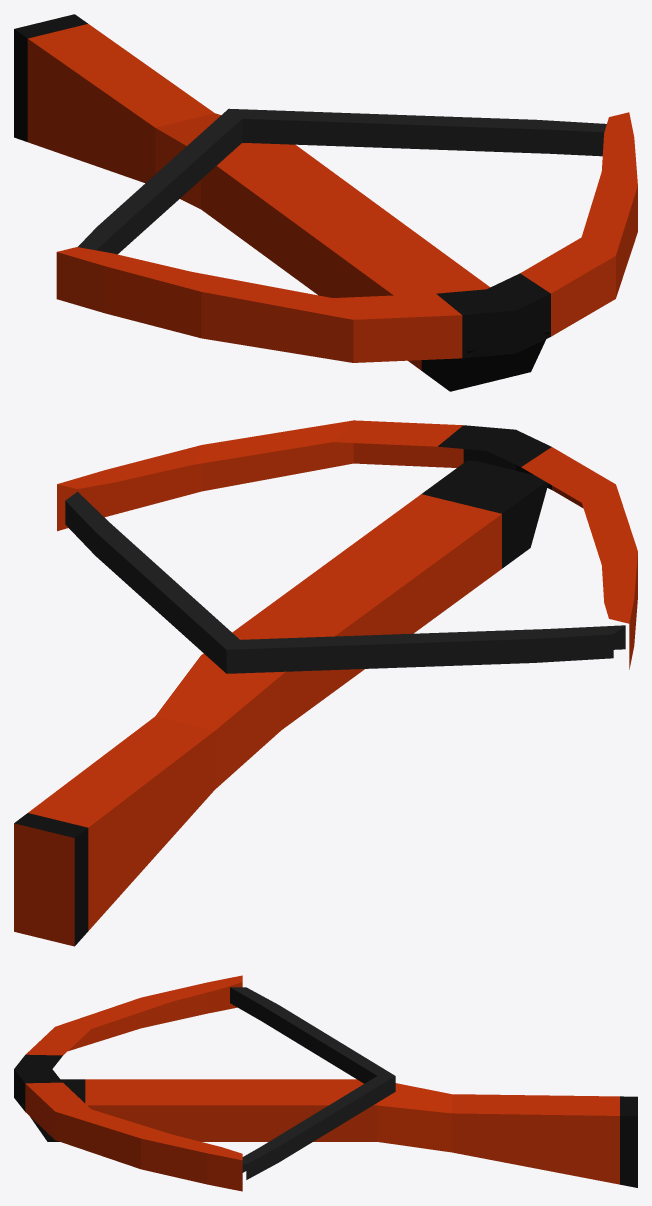
File: crossbow_pull.obj
3 renders of one model, top to bottom at view 1: azimuth 30°, elevation 25°; view 2: azimuth 150°, elevation 25°; view 3: azimuth 270°, elevation 25°, orthographic. The views are drawn at different scales.
Visible parts, largest first — view 1: crossbow_pull; view 2: crossbow_pull; view 3: crossbow_pull.
Part boxes in pixels (x1,y1,x2,y2): crossbow_pull: (14,14,637,391); crossbow_pull: (14,420,637,946); crossbow_pull: (14,975,637,1191).
Bounding box in the file's own units: 0.2655 × 0.0739 × 0.3787.
